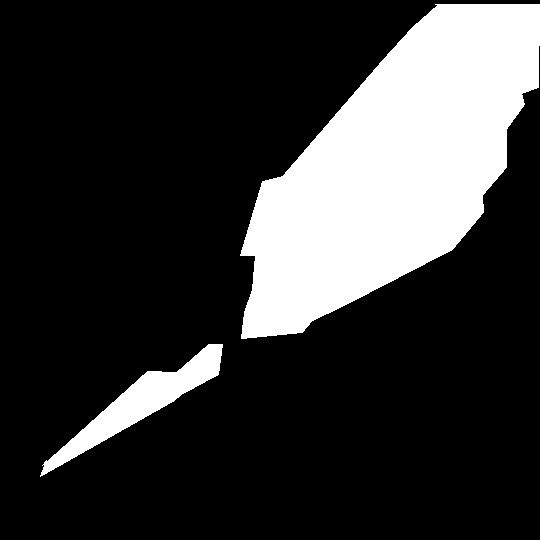Fire: (245, 91, 456, 323)
